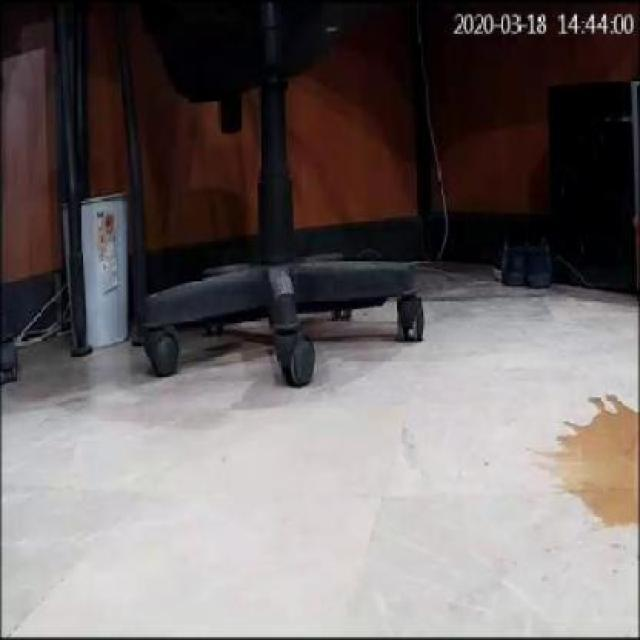spillage: (555, 396, 639, 528)
